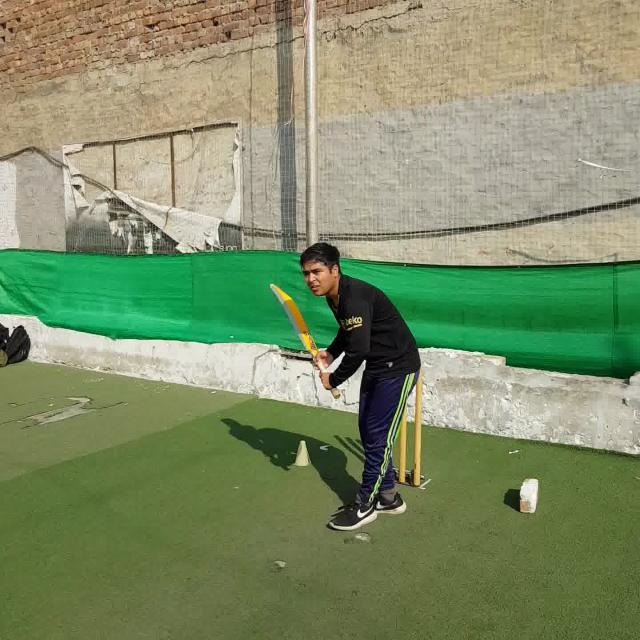bat: (269, 283, 338, 397)
